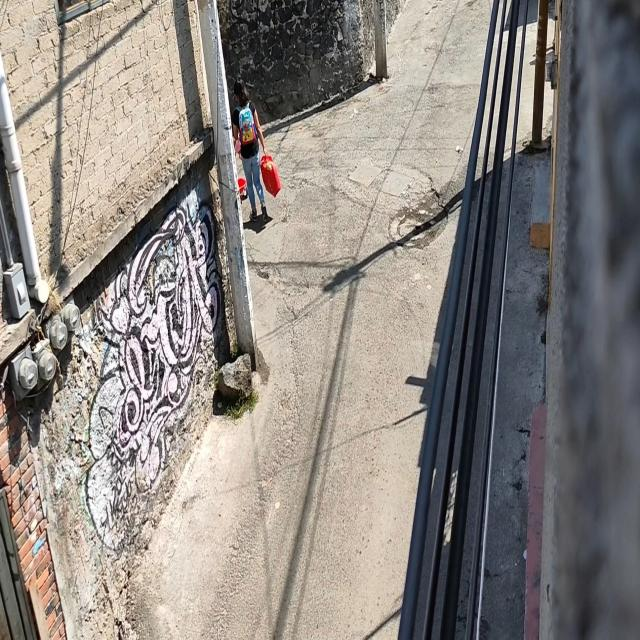adult: (231, 75, 269, 228)
